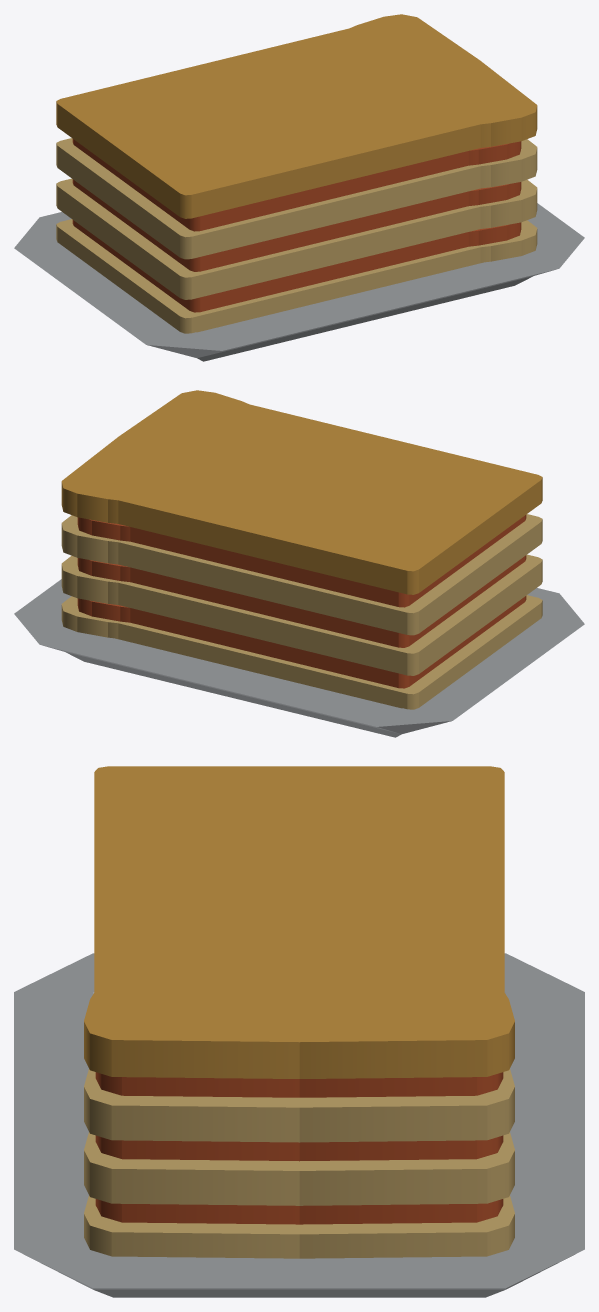
File: lasagna.glb
The picture shows the model from 3 angles, top to bottom: view 1: azimuth 30°, elevation 25°; view 2: azimuth 150°, elevation 25°; view 3: azimuth 270°, elevation 25°; orthographic projection. The views are drawn at different scales.
Parts seen in each view (by area): view 1: lasagna; view 2: lasagna; view 3: lasagna.
Part boxes in pixels (left/top/right/bottom): lasagna: left=14, top=14, right=584, bottom=361; lasagna: left=14, top=390, right=584, bottom=737; lasagna: left=14, top=766, right=584, bottom=1297.
Size of the model in its own units: 0.62 by 0.2371 by 0.4468.
